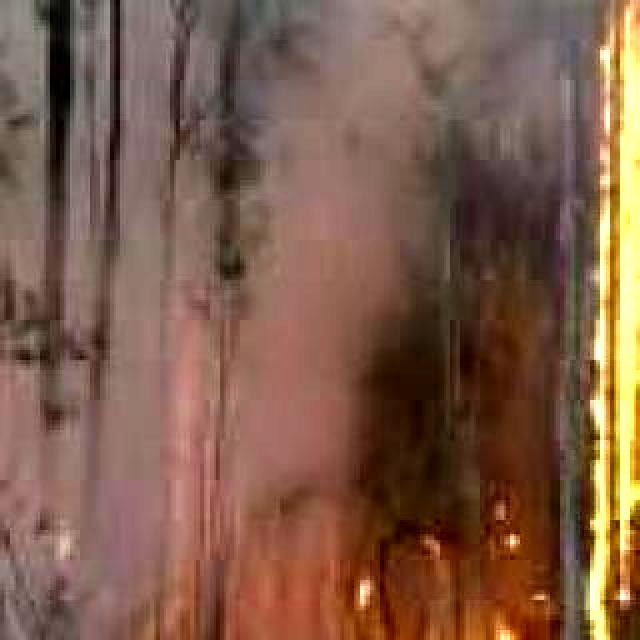fire: (594, 0, 640, 640), (314, 570, 560, 640)
